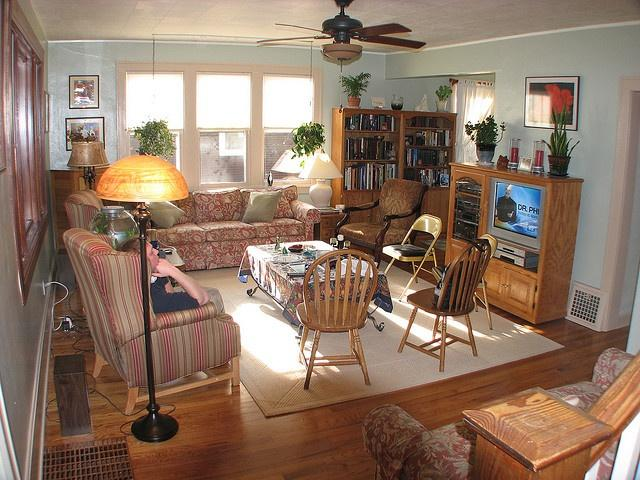Kursi: (396, 239, 490, 372), (294, 247, 377, 391)
